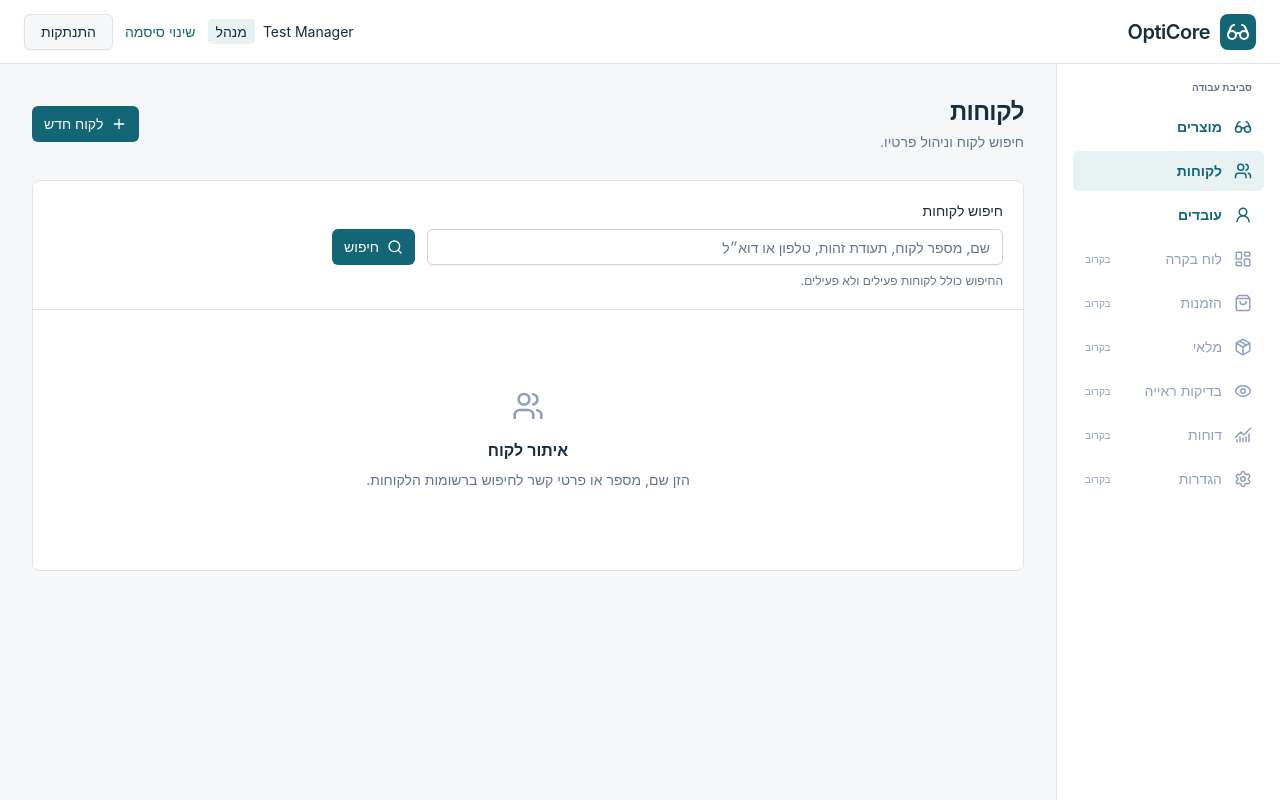
Test: does not claim logout succeeded when the request fails
Step 1. Click the button "התנתקות" → (68, 32), box [24,14,113,50]
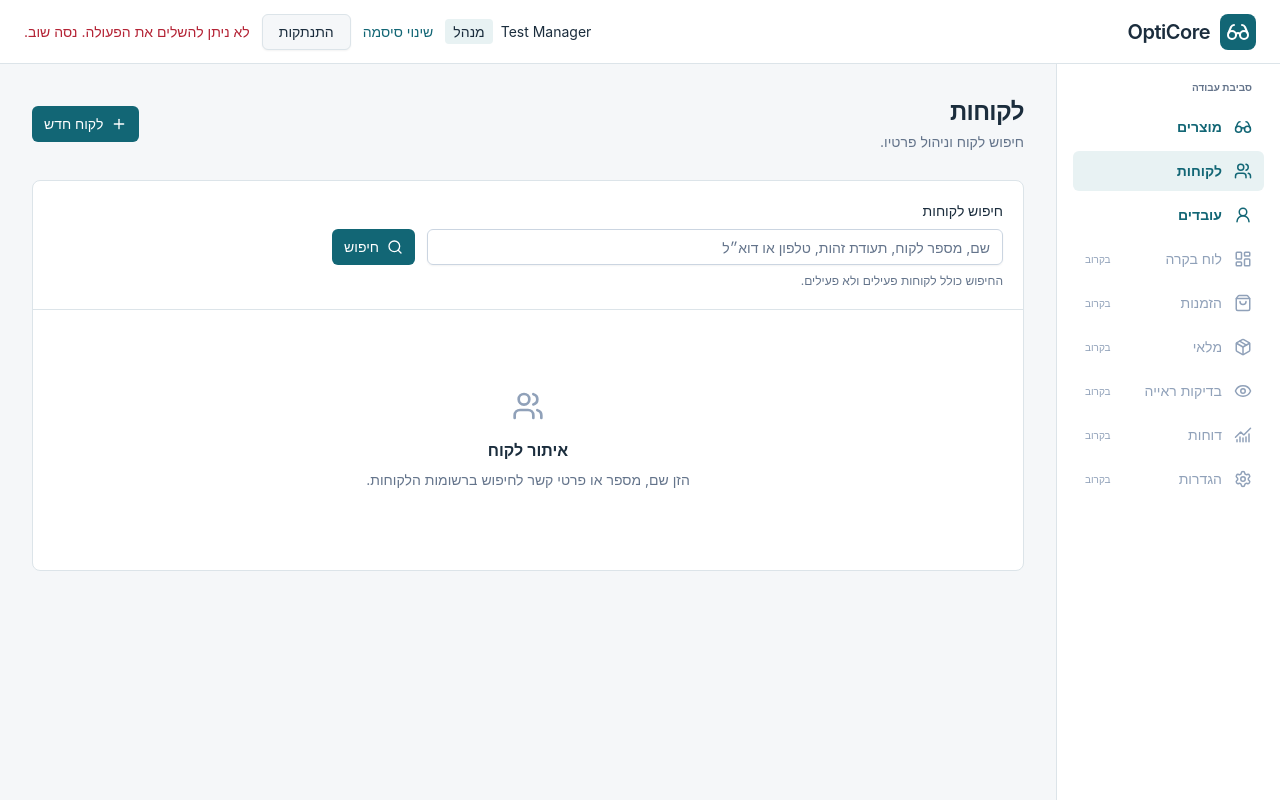
Check: the text "Test Manager" is shown, box [501,22,591,40]
Check: the message shows "לא ניתן להשלים", box [24,22,250,40]
